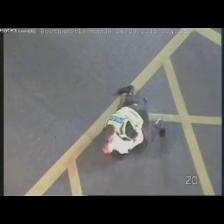person: (103, 86, 151, 153)
